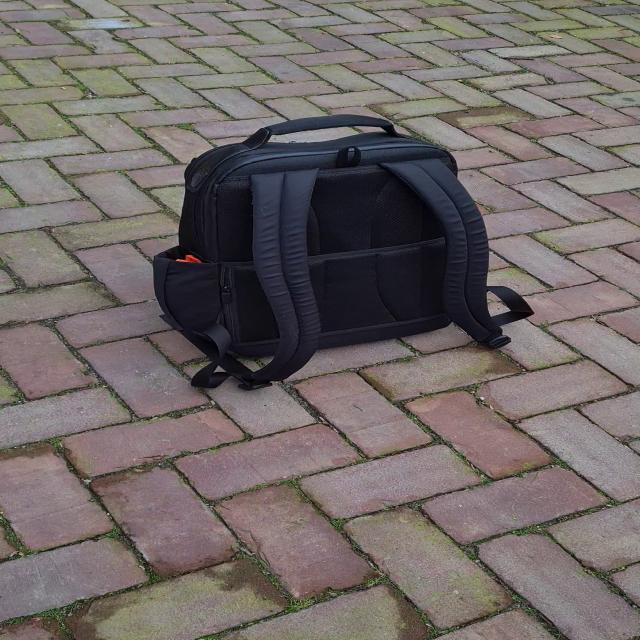backpack: (154, 108, 541, 394)
